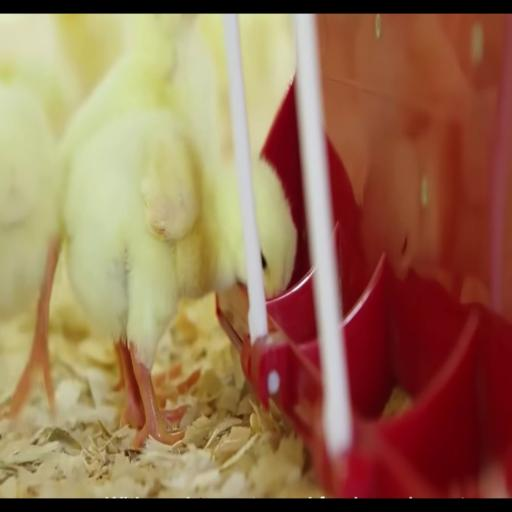chick: (64, 110, 246, 446), (0, 85, 62, 415)
